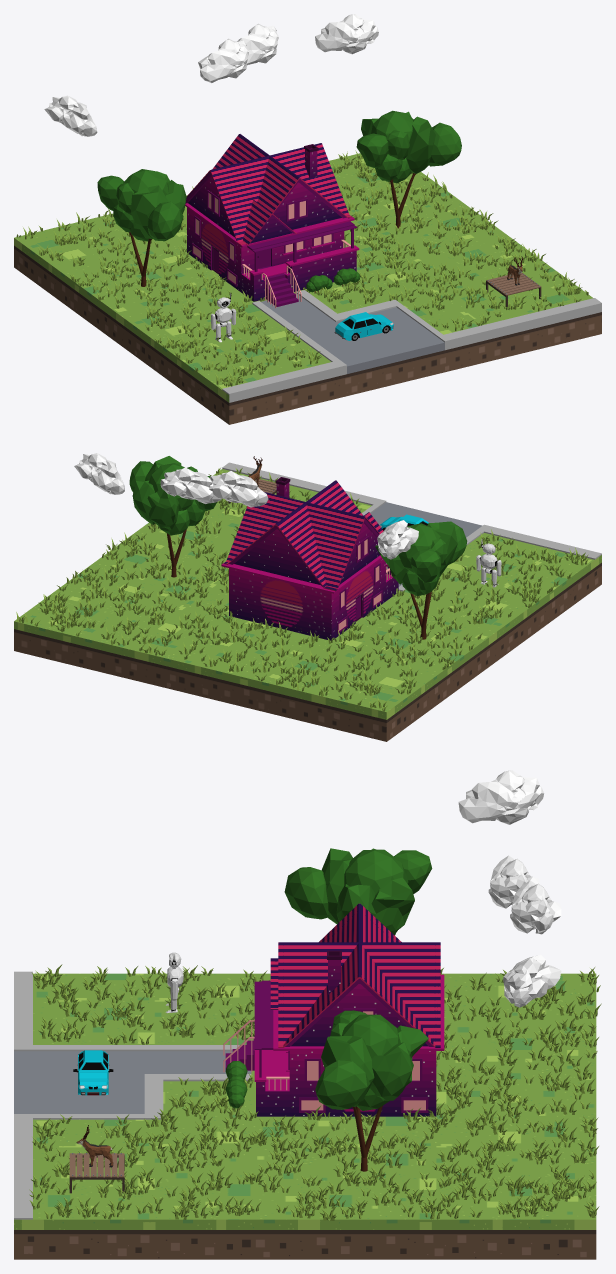
3 views of the same model, one above another, from view 1: azimuth 30°, elevation 25°; view 2: azimuth 150°, elevation 25°; view 3: azimuth 270°, elevation 25° (orthographic). The views are drawn at different scales.
Parts seen in each view (by area): view 1: Cube.006, Cube.156, Circle.012_Grass_0.192, Cube.007, tree, tree.001, VEHICLES_CAR, Cube.009, OBJRANDOM_PLATZEEBOT; view 2: Cube.006, Cube.156, Circle.012_Grass_0.192, Cube.007, tree.001, tree, OBJRANDOM_PLATZEEBOT; view 3: Cube.006, Circle.012_Grass_0.192, Cube.156, tree, Cube.007, tree.001, Cube.009, VEHICLES_CAR, OBJRANDOM_PLATZEEBOT.
Part boxes in pixels (x1,y1,x2,y2): Cube.006: [14, 153, 601, 424]; Cube.156: [185, 134, 359, 308]; Circle.012_Grass_0.192: [16, 150, 588, 386]; Cube.007: [44, 14, 378, 136]; tree: [356, 110, 461, 228]; tree.001: [97, 169, 186, 286]; VEHICLES_CAR: [334, 312, 393, 340]; Cube.009: [486, 272, 541, 306]; OBJRANDOM_PLATZEEBOT: [211, 292, 236, 342]; Cube.006: [14, 462, 601, 741]; Cube.156: [221, 477, 398, 640]; Circle.012_Grass_0.192: [16, 468, 588, 711]; Cube.007: [74, 453, 418, 559]; tree.001: [375, 521, 467, 639]; tree: [129, 456, 216, 577]; OBJRANDOM_PLATZEEBOT: [476, 539, 501, 587]; Cube.006: [14, 971, 596, 1259]; Circle.012_Grass_0.192: [29, 964, 601, 1220]; Cube.156: [223, 903, 444, 1116]; tree: [315, 1010, 428, 1171]; Cube.007: [458, 770, 561, 1007]; tree.001: [284, 848, 432, 935]; Cube.009: [69, 1153, 124, 1193]; VEHICLES_CAR: [73, 1050, 113, 1095]; OBJRANDOM_PLATZEEBOT: [165, 952, 183, 1013].
Bounding box in the file's own units: 4071 × 2198 × 4040.
Materials: 36 (6 with a texture image).
